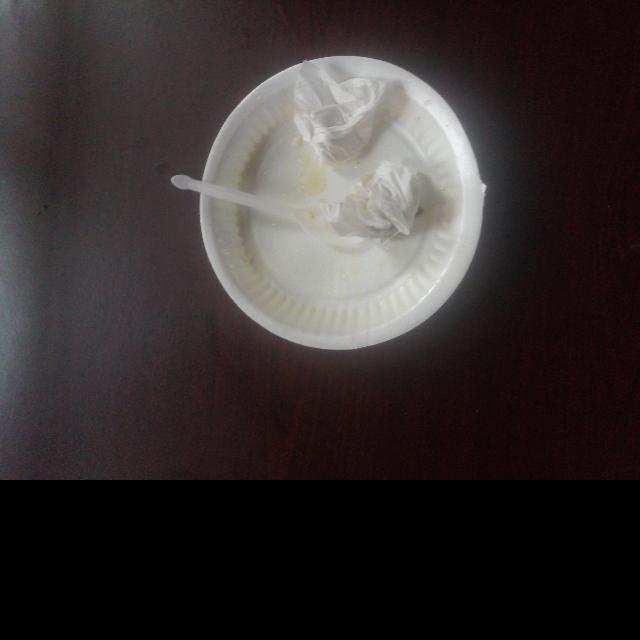kitchen paper: (289, 56, 410, 164), (316, 161, 439, 237)
